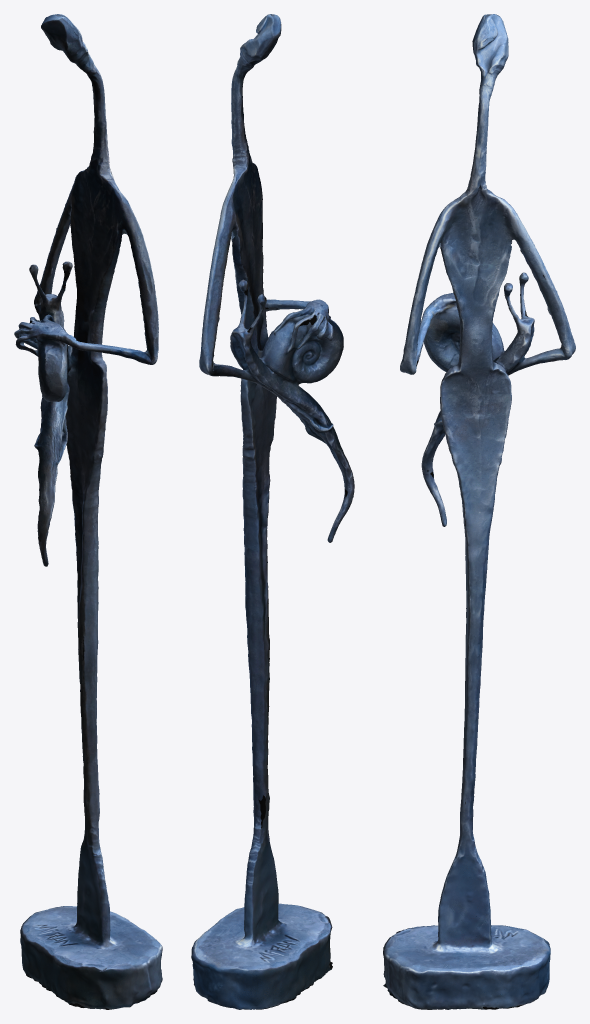
Rendered from petsnail.gltf.
3 renders of one model, left to right at view 1: azimuth 30°, elevation 25°; view 2: azimuth 150°, elevation 25°; view 3: azimuth 270°, elevation 25°, orthographic.
Visible parts, largest first — view 1: model; view 2: model; view 3: model.
Part boxes in pixels (x1,y1,x2,y2): model: [14, 14, 162, 1009]; model: [191, 14, 354, 1009]; model: [383, 14, 575, 1009].
Size of the model in its own units: 0.2551 by 1.92 by 0.3487.
1 material, 1 textured.
